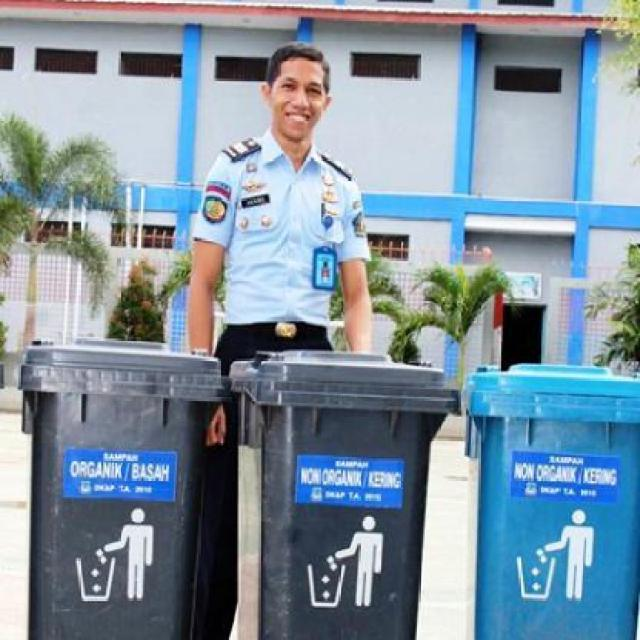garbage container: (8, 325, 237, 640), (232, 346, 467, 640), (458, 360, 640, 640)
